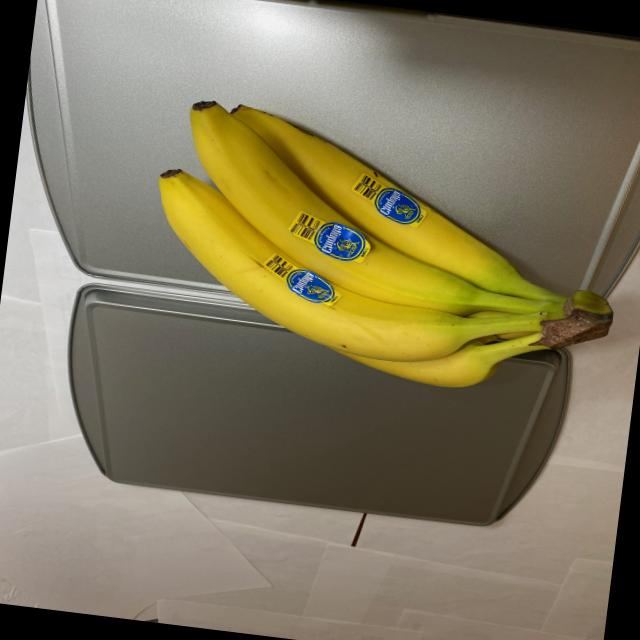banana: (135, 79, 640, 413)
